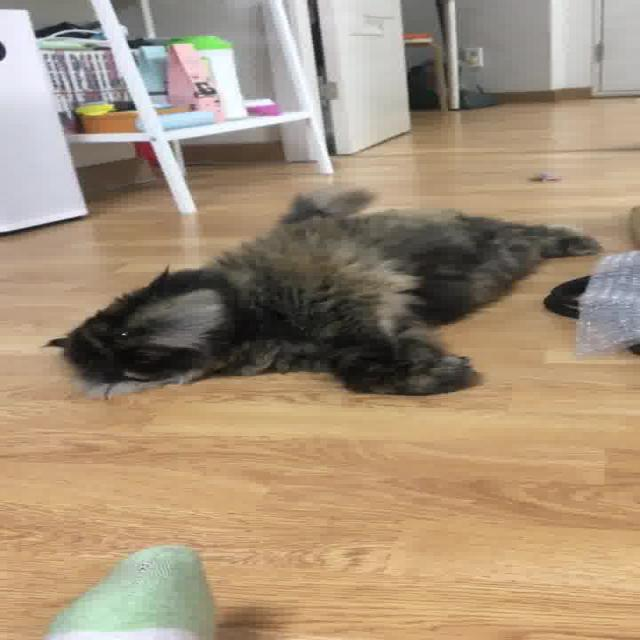cat: (36, 183, 606, 410)
